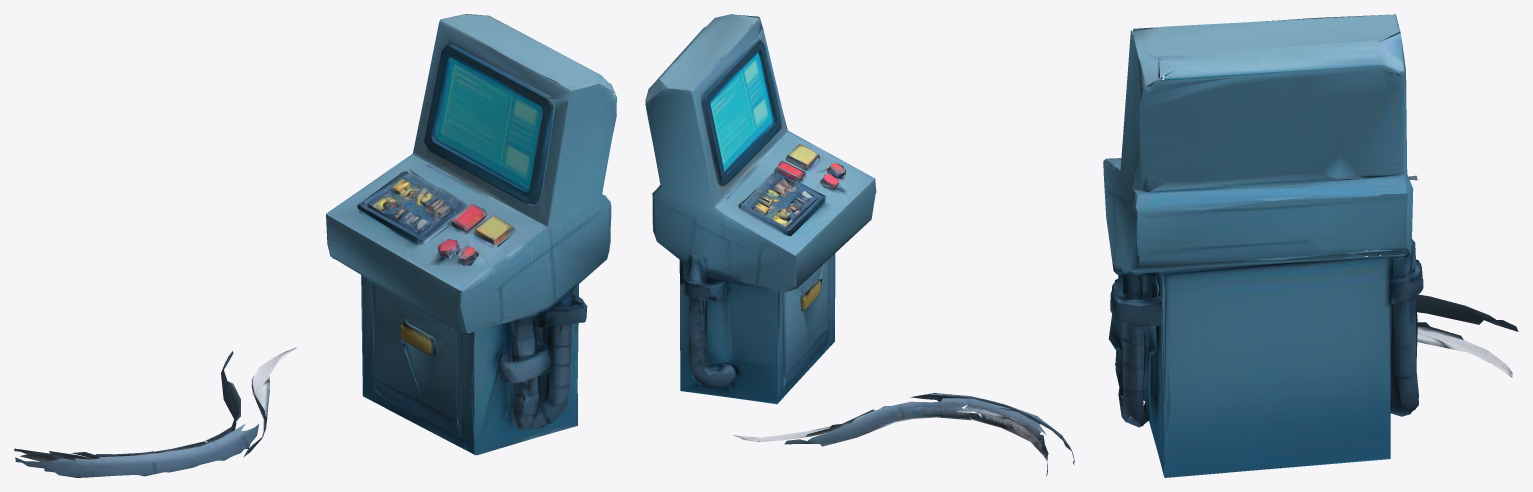
The model's file is console.glb.
The picture shows the model from 3 angles, left to right: view 1: azimuth 30°, elevation 25°; view 2: azimuth 150°, elevation 25°; view 3: azimuth 270°, elevation 25°; orthographic projection. The views are drawn at different scales.
Parts seen in each view (by area): view 1: console; view 2: console; view 3: console.
Boxes of the visible parts, x1,y1,x2,y2 form: console: (14,14,616,477); console: (645,14,1074,476); console: (1103,14,1518,477).
Bounding box in the file's own units: 0.5185 × 0.3406 × 0.2928.
1 material, 1 textured.
